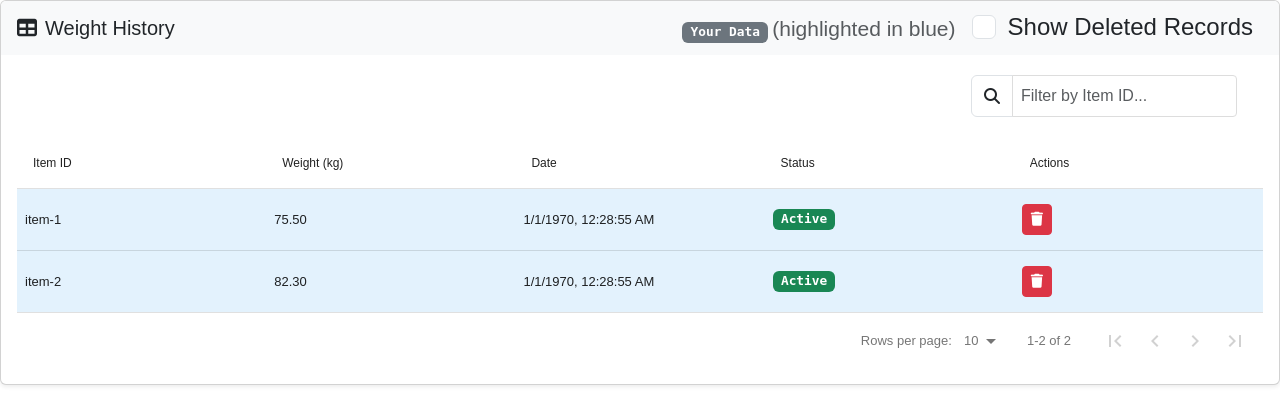
Scenario: WeightTable › sorts weights by clicking column headers
The width and height of the screenshot is (1280, 404).
What coordinates should you click on to do the following:
click the column heading "Item ID"
I would click on:
 (52, 162)
Its box is [33,156,72,170].
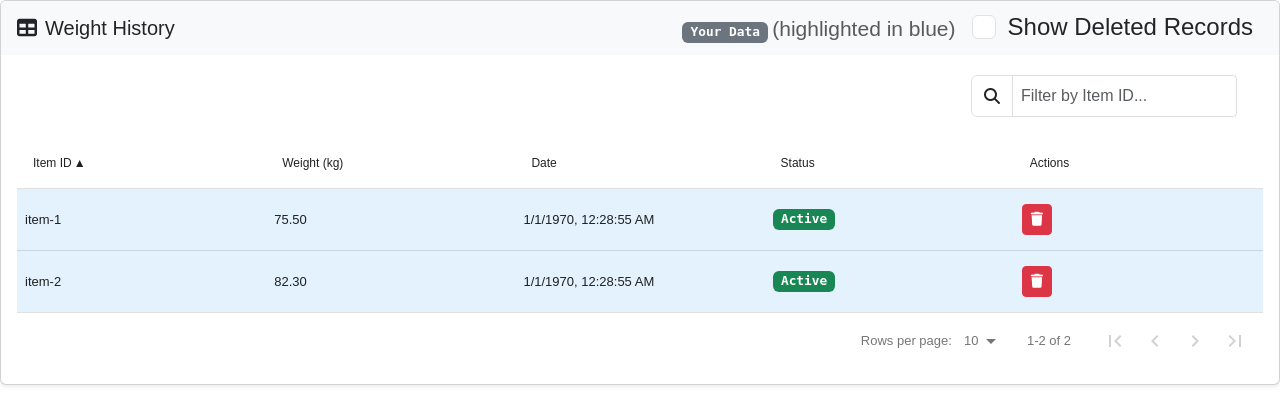
Check: the text "item-1" is shown, box [25,212,61,227]
What coordinates should you click on to do the following:
click the column heading "Item ID ▲"
I would click on:
 (59, 162)
Its box is [33,156,86,170].
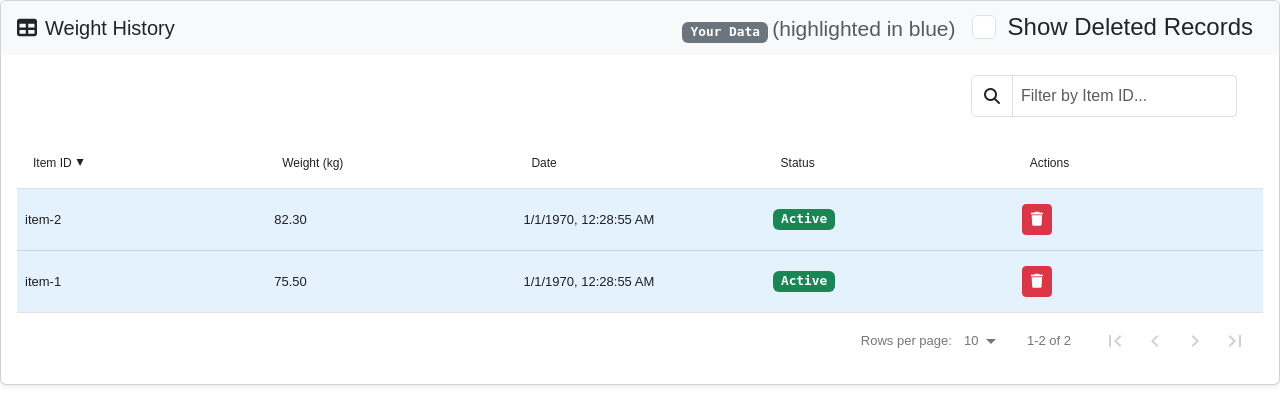
Check: the text "item-2" is shown, box [25,212,61,227]
